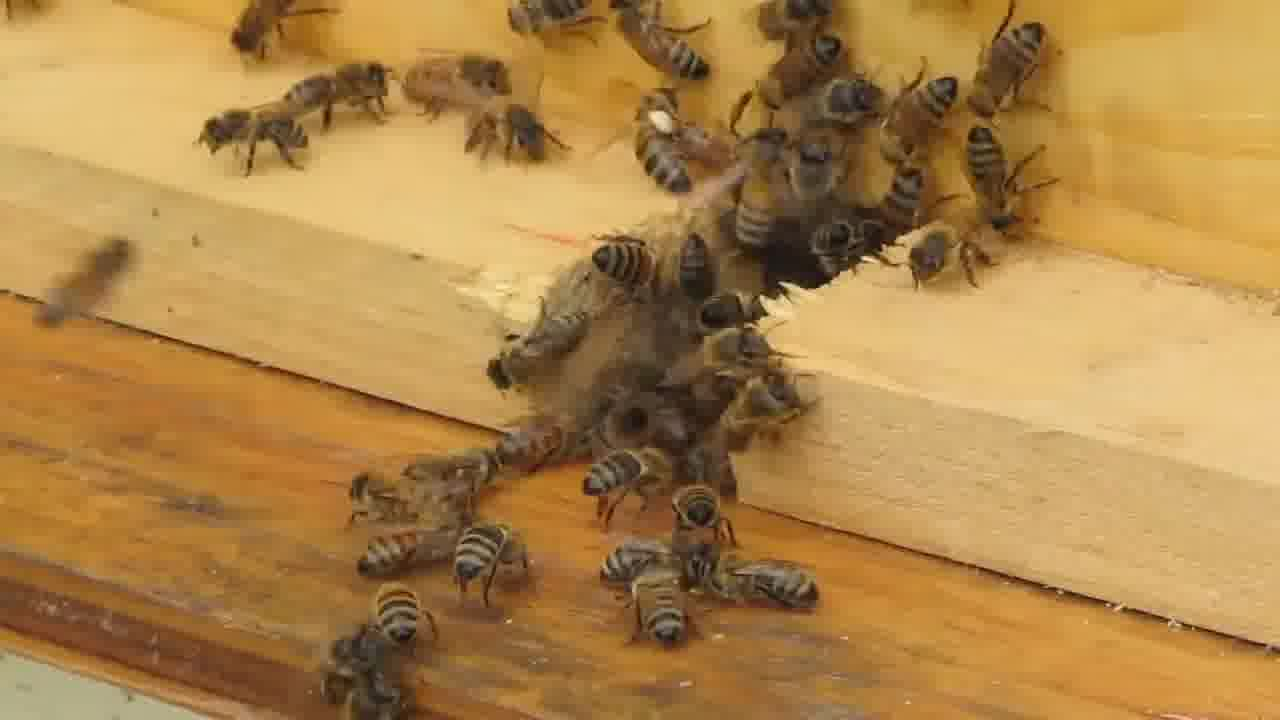pollen: (620, 86, 696, 191)
